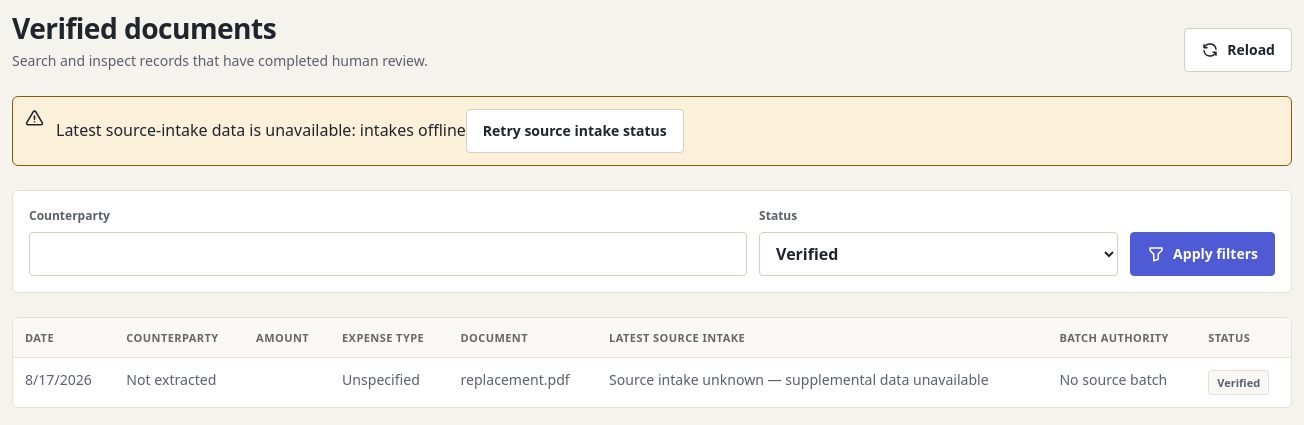
Scenario: DocumentsView › shows source-intake failure as unknown and retries that supplement independently
Expected: the text "Latest source-intake data is unavailable: intakes offline" is shown, [56,119,466,141]
Expected: the text "Source intake unknown — supplemental data unavailable" is shown, [597,358,1047,407]
What coordinates should you click on to do the following:
click the button "Retry source intake status"
I would click on:
 (575, 131)
Its box is [466,109,684,153].
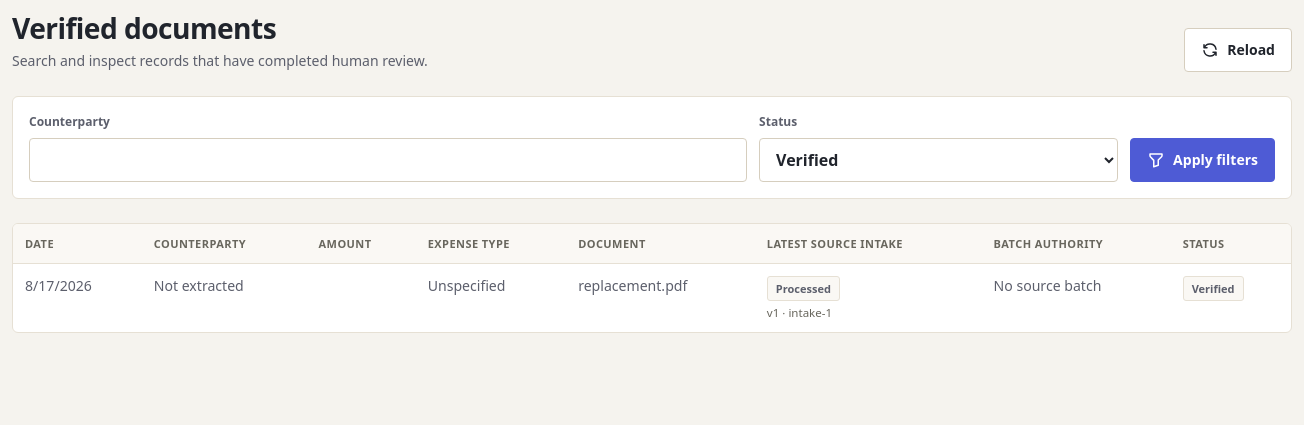
Now the text "Processed" is shown, box [767,276,840,301]
